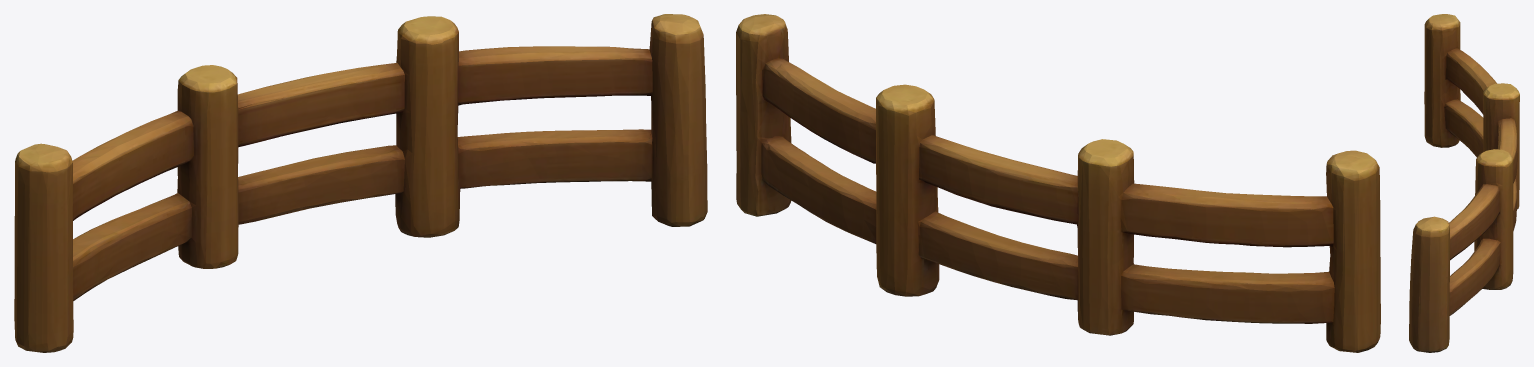
Rendered from fencing.glb.
The picture shows the model from 3 angles, left to right: view 1: azimuth 30°, elevation 25°; view 2: azimuth 150°, elevation 25°; view 3: azimuth 270°, elevation 25°; orthographic projection. The views are drawn at different scales.
Parts seen in each view (by area): view 1: world; view 2: world; view 3: world.
Part boxes in pixels (box(x1,y1,x2,y2)): world: box(14, 14, 707, 352); world: box(736, 14, 1380, 352); world: box(1409, 14, 1519, 352).
Size of the model in its own units: 1 by 0.2965 by 0.2232.
Materials: 1 (1 with a texture image).
